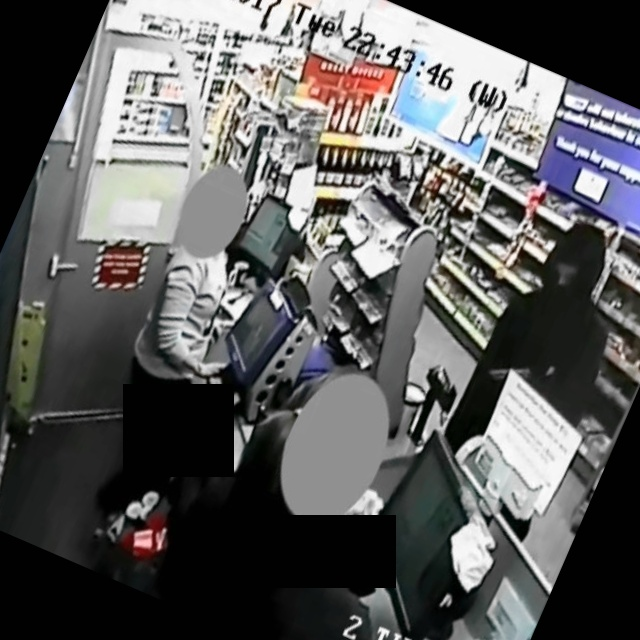gun: (484, 352, 540, 402)
